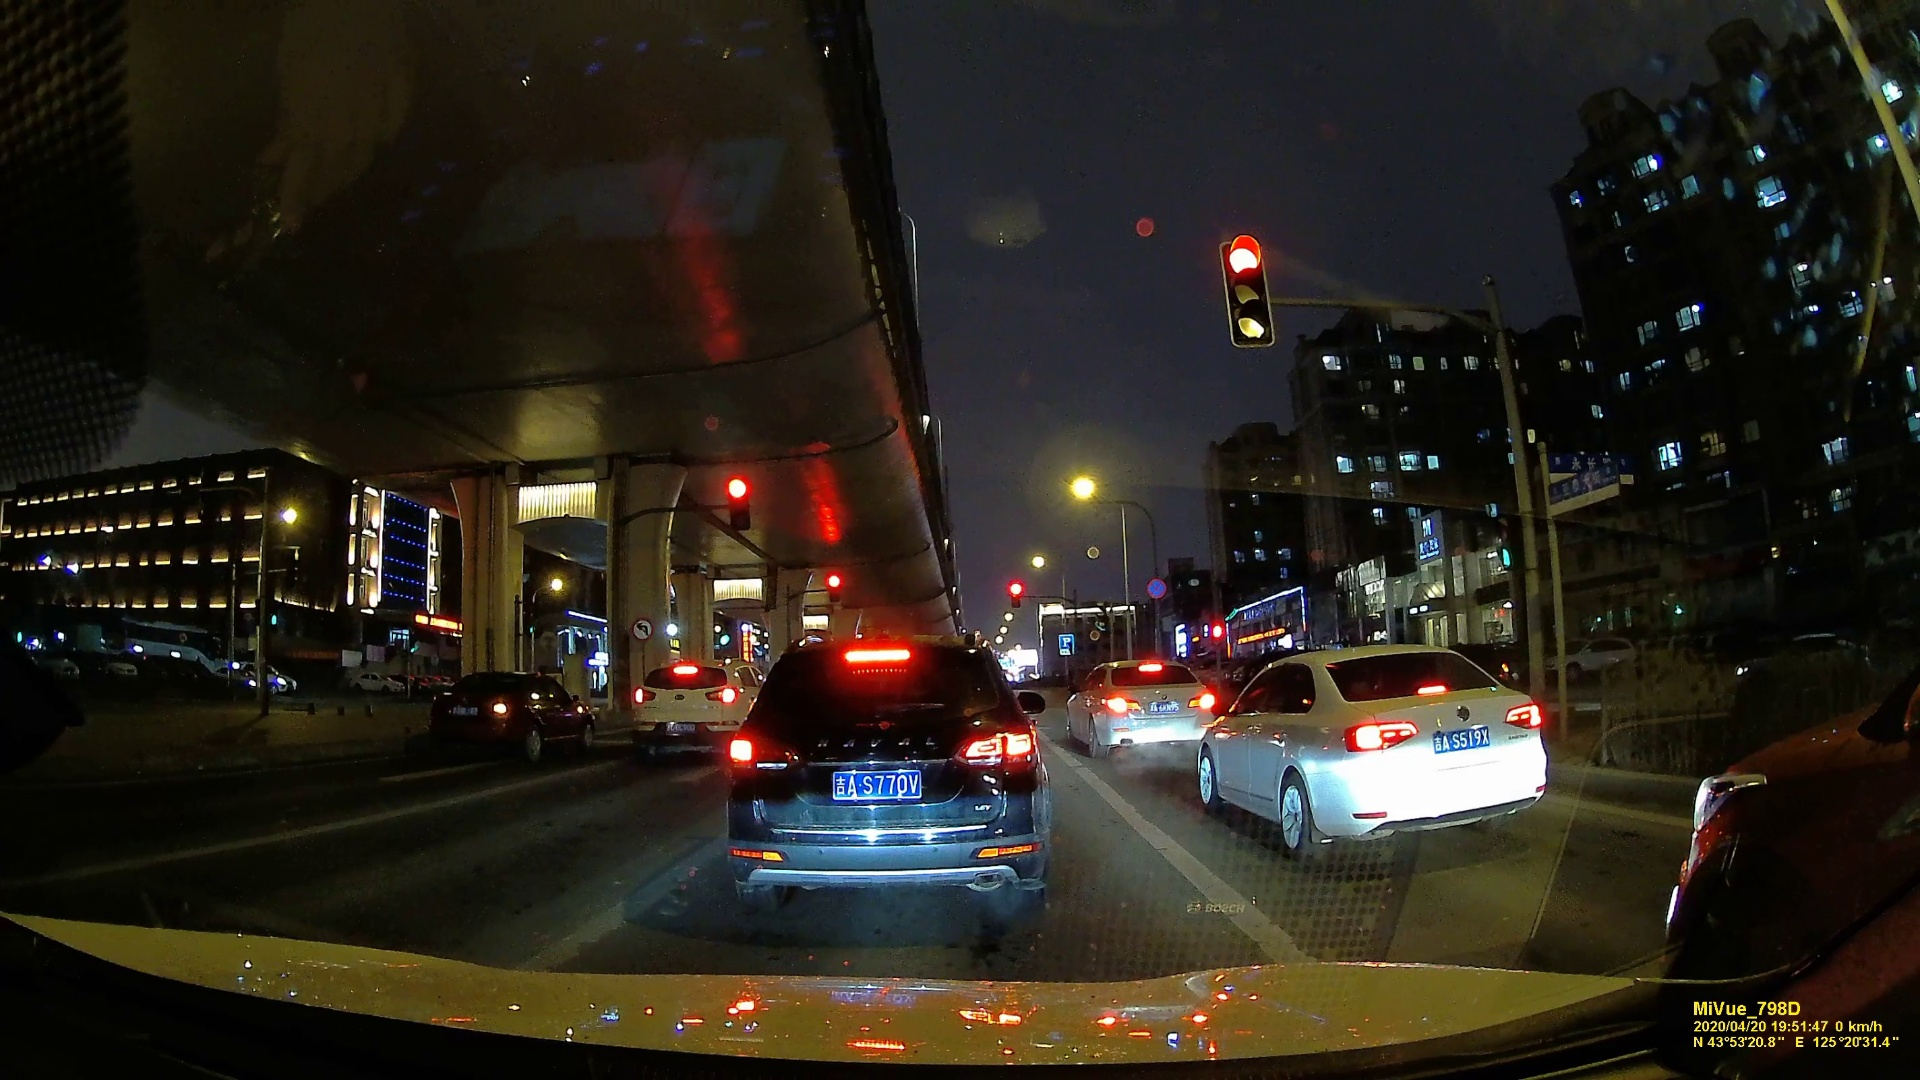traffic_sign: (1224, 237, 1269, 345), (1543, 464, 1622, 510), (723, 473, 749, 525), (825, 574, 844, 604), (1145, 576, 1168, 597), (1007, 582, 1025, 611), (634, 618, 653, 640), (1058, 633, 1073, 655)
vehicle: (723, 642, 1048, 914), (1196, 651, 1549, 855), (423, 669, 593, 761), (1063, 651, 1208, 760), (640, 669, 749, 752)
